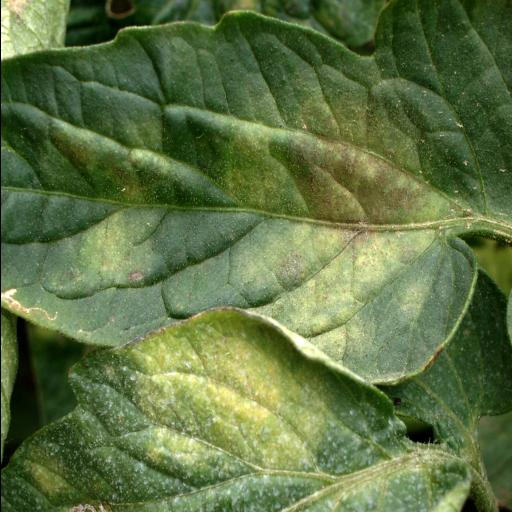Leaf Mold: (0, 0, 500, 384)
